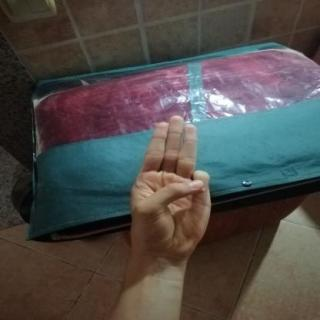THA: (119, 108, 222, 265)
